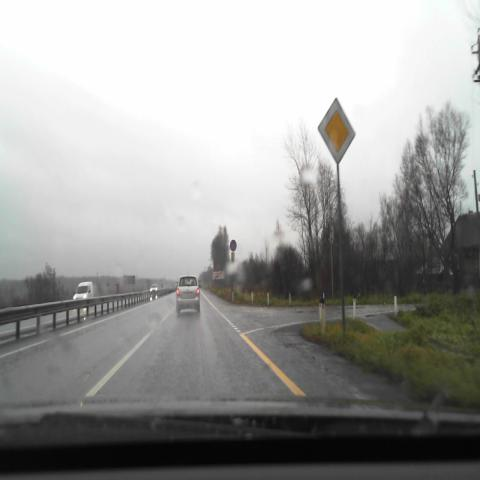2_1: (318, 98, 356, 165)
